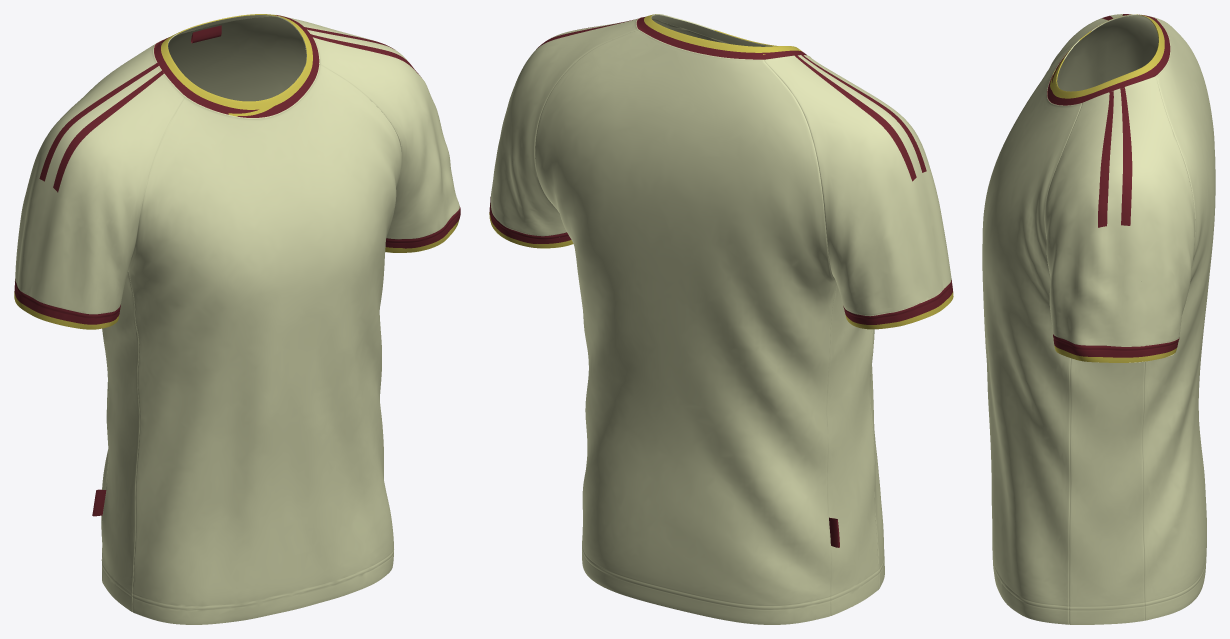
The model's file is kit-juneda.glb.
3 views of the same model, side by side, from view 1: azimuth 30°, elevation 25°; view 2: azimuth 150°, elevation 25°; view 3: azimuth 270°, elevation 25° (orthographic). The views are drawn at different scales.
Parts seen in each view (by area): view 1: Object_5; view 2: Object_5; view 3: Object_5.
Boxes of the visible parts, left/top/right/bottom form: Object_5: left=14, top=14, right=460, bottom=624; Object_5: left=489, top=14, right=953, bottom=624; Object_5: left=982, top=14, right=1215, bottom=624.
Size of the model in its own units: 0.525 by 0.6247 by 0.2522.
